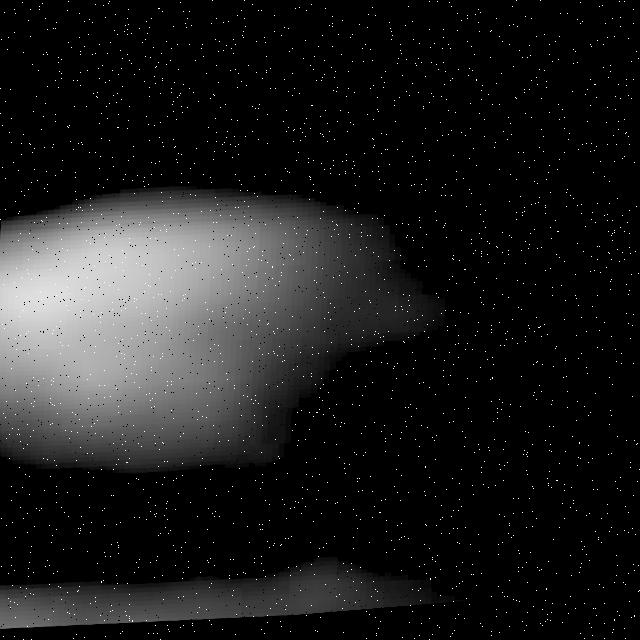person: (1, 185, 417, 488), (1, 526, 496, 640)
